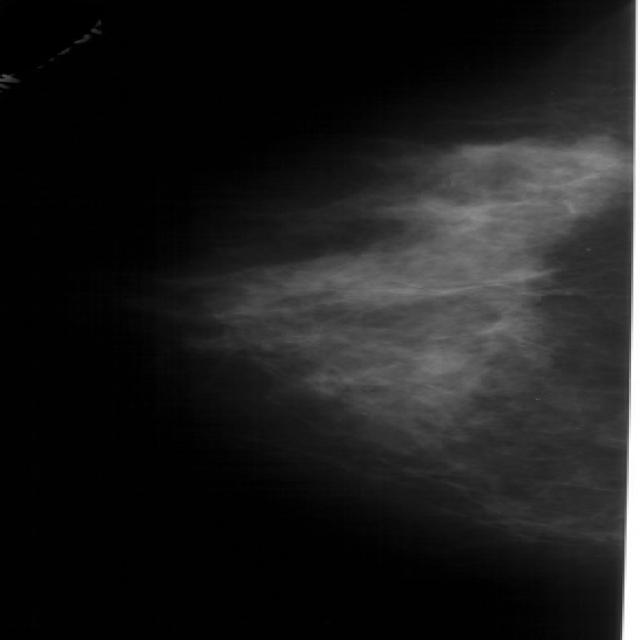tumour: (566, 133, 624, 171)
